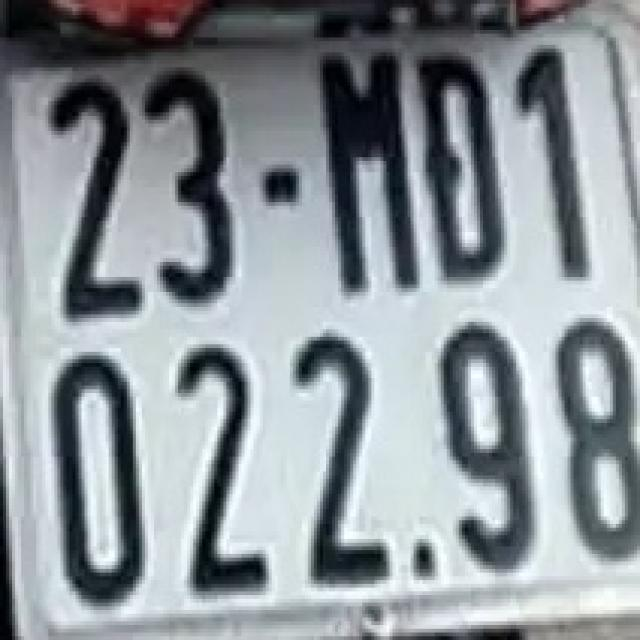0: (48, 348, 151, 606)
1: (516, 45, 598, 281)
2: (290, 326, 395, 591), (172, 337, 278, 595), (45, 71, 145, 322)
3: (145, 64, 238, 307)
8: (555, 314, 640, 562)
9: (435, 314, 540, 572)
D: (420, 53, 507, 284)
M: (314, 37, 417, 296)
